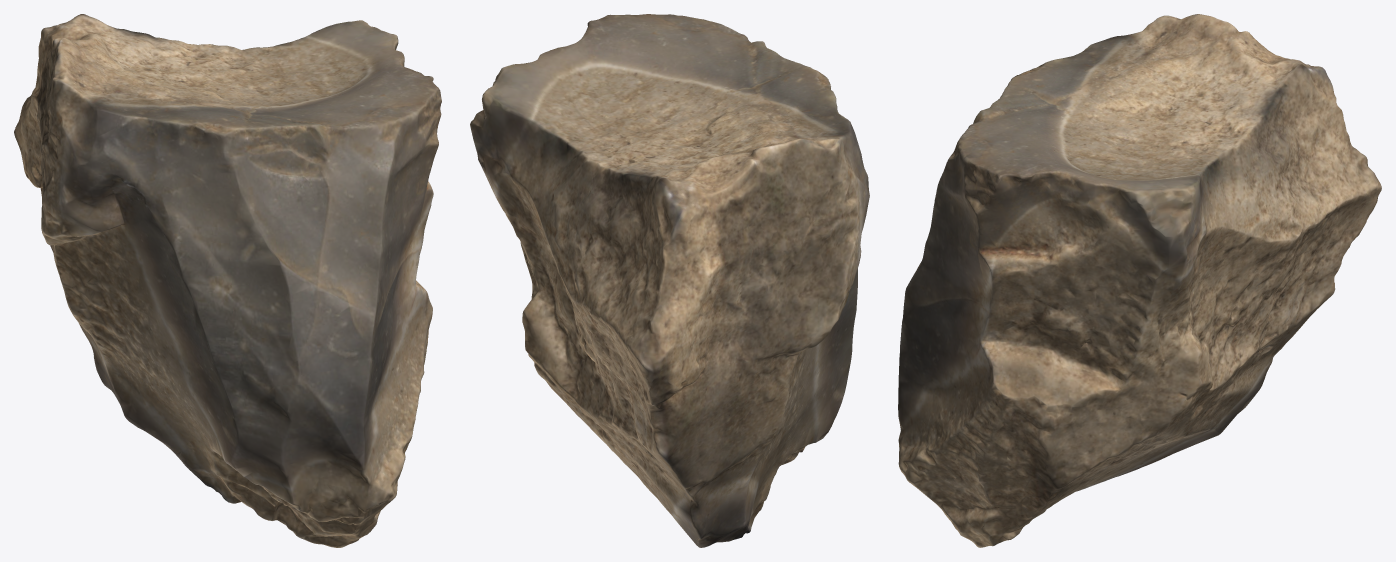
Rendered from flint-core-mobile.glb.
3 views of the same model, side by side, from view 1: azimuth 30°, elevation 25°; view 2: azimuth 150°, elevation 25°; view 3: azimuth 270°, elevation 25° (orthographic). The views are drawn at different scales.
Visible parts, largest first — view 1: Flint_Core_S14618; view 2: Flint_Core_S14618; view 3: Flint_Core_S14618.
Part boxes in pixels (bbox=[...]): Flint_Core_S14618: bbox=[14, 14, 441, 547]; Flint_Core_S14618: bbox=[470, 14, 869, 547]; Flint_Core_S14618: bbox=[898, 14, 1381, 547].
Bounding box in the file's own units: 0.7861 × 1 × 0.9787.
Materials: 1 (1 with a texture image).
